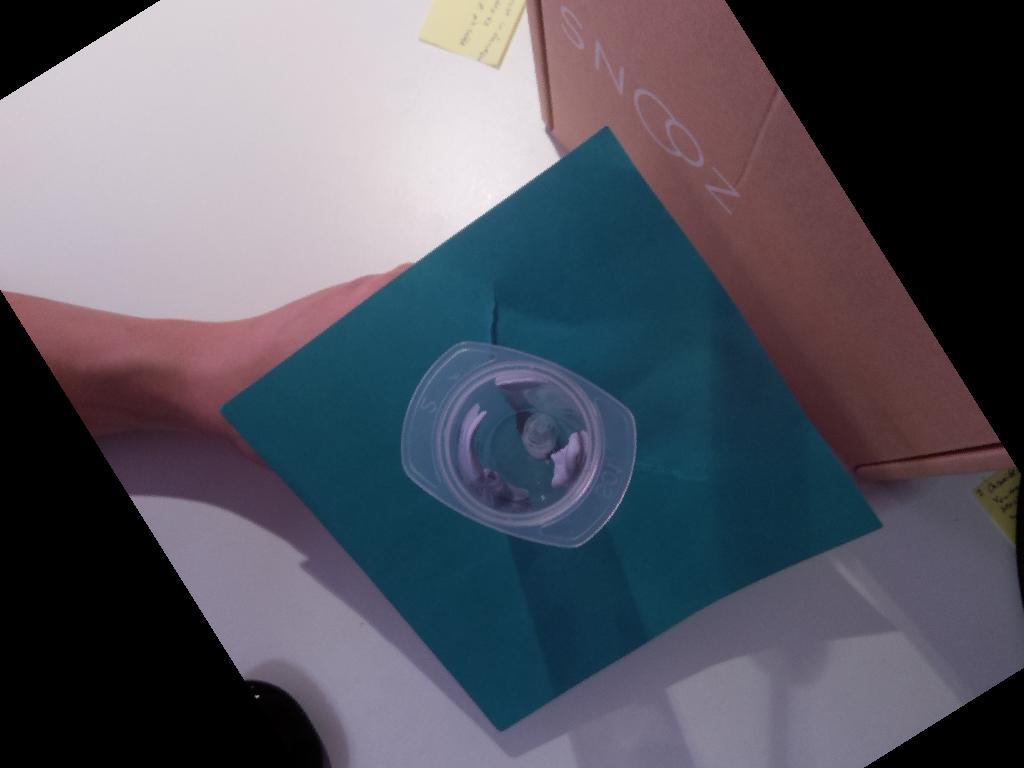dirty: (400, 336, 637, 547)
